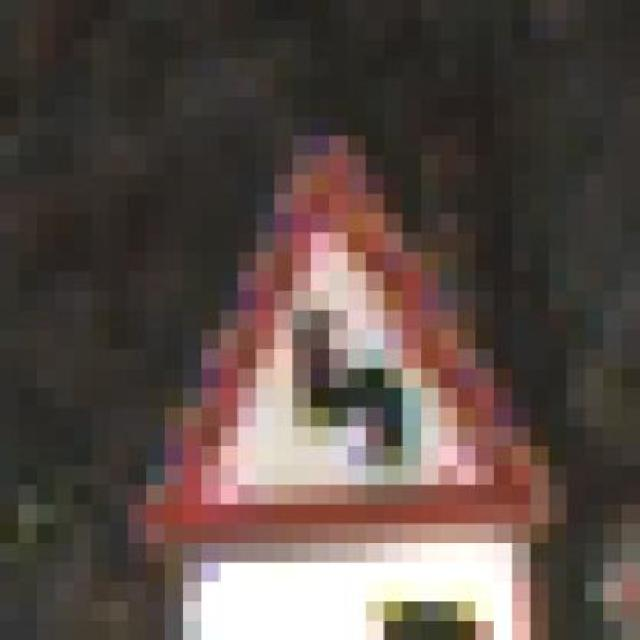Left Zig Zag Traffic: (110, 116, 567, 562)
